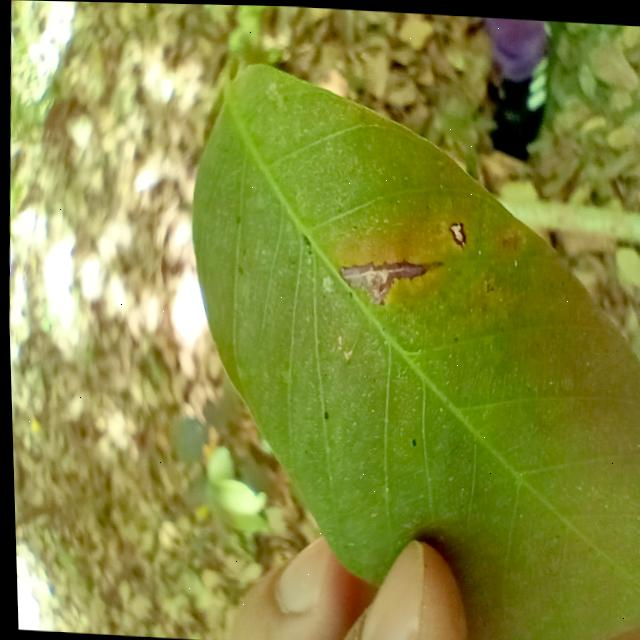Corynespora: (334, 252, 441, 304)
